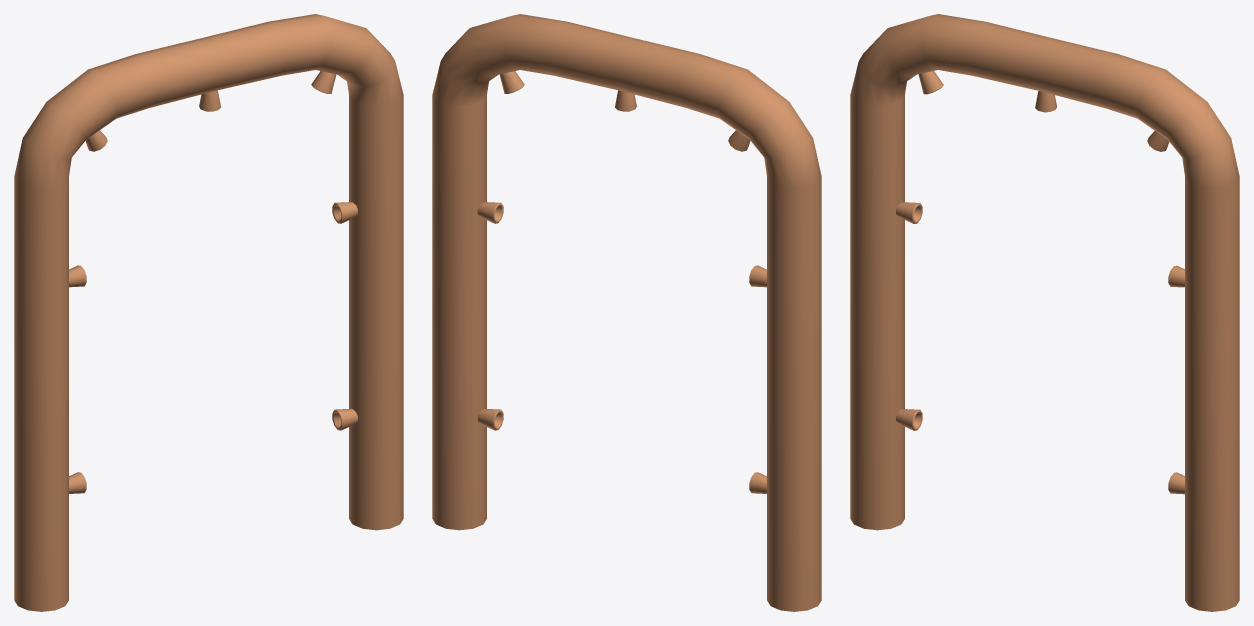
Rendered from Door.fbx.
3 views of the same model, side by side, from view 1: azimuth 30°, elevation 25°; view 2: azimuth 150°, elevation 25°; view 3: azimuth 330°, elevation 25° (orthographic).
Visible parts, largest first — view 1: Door; view 2: Door; view 3: Door.
Boxes of the visible parts, box(x1,y1,x2,y2) form: Door: box(14, 14, 403, 611); Door: box(432, 14, 821, 611); Door: box(850, 14, 1239, 611).
Bounding box in the file's own units: 11.68 × 15.18 × 1.51.
